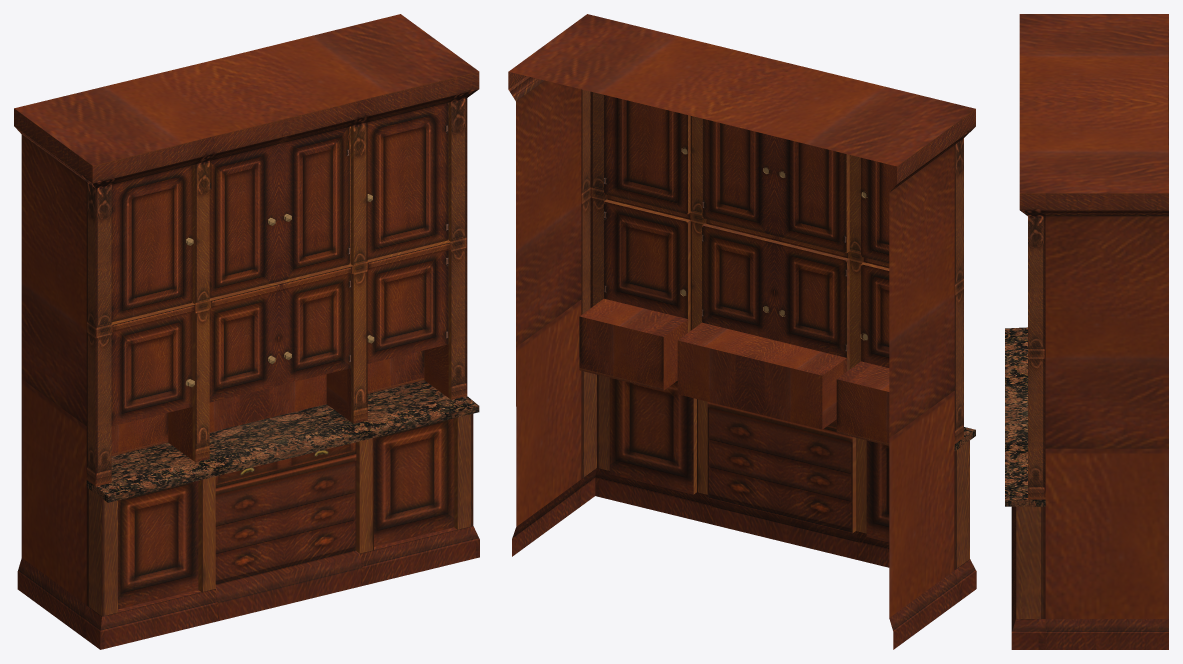
The model's file is KitchenCabinet.fbx.
The picture shows the model from 3 angles, left to right: view 1: azimuth 30°, elevation 25°; view 2: azimuth 150°, elevation 25°; view 3: azimuth 270°, elevation 25°; orthographic projection. The views are drawn at different scales.
Parts seen in each view (by area): view 1: Kitchen Cabinet; view 2: Kitchen Cabinet; view 3: Kitchen Cabinet.
Boxes of the visible parts, x1,y1,x2,y2 form: Kitchen Cabinet: (14,14,479,649); Kitchen Cabinet: (508,14,976,649); Kitchen Cabinet: (1005,14,1168,649).
Size of the model in its own units: 248 by 295 by 95.65.
